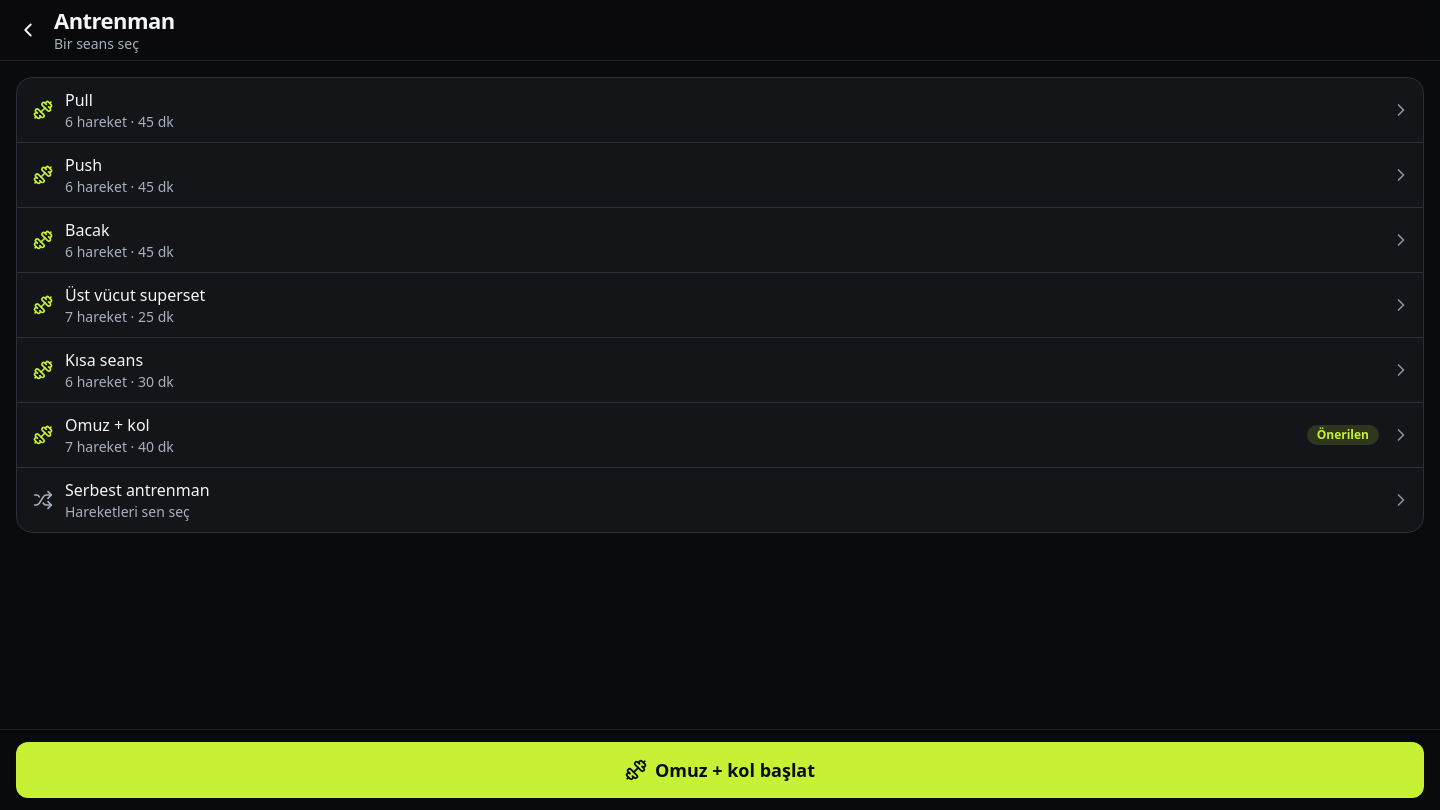
Test case: SessionScreen without a running session › shows the session picker inline and starts the chosen plan session
Expected: the heading "Antrenman" is shown, x1=54 y1=5 x2=175 y2=35
Click the button "Push 6 hareket · 45 dk". click: (84, 165)
box: x1=17 y1=143 x2=1423 y2=207
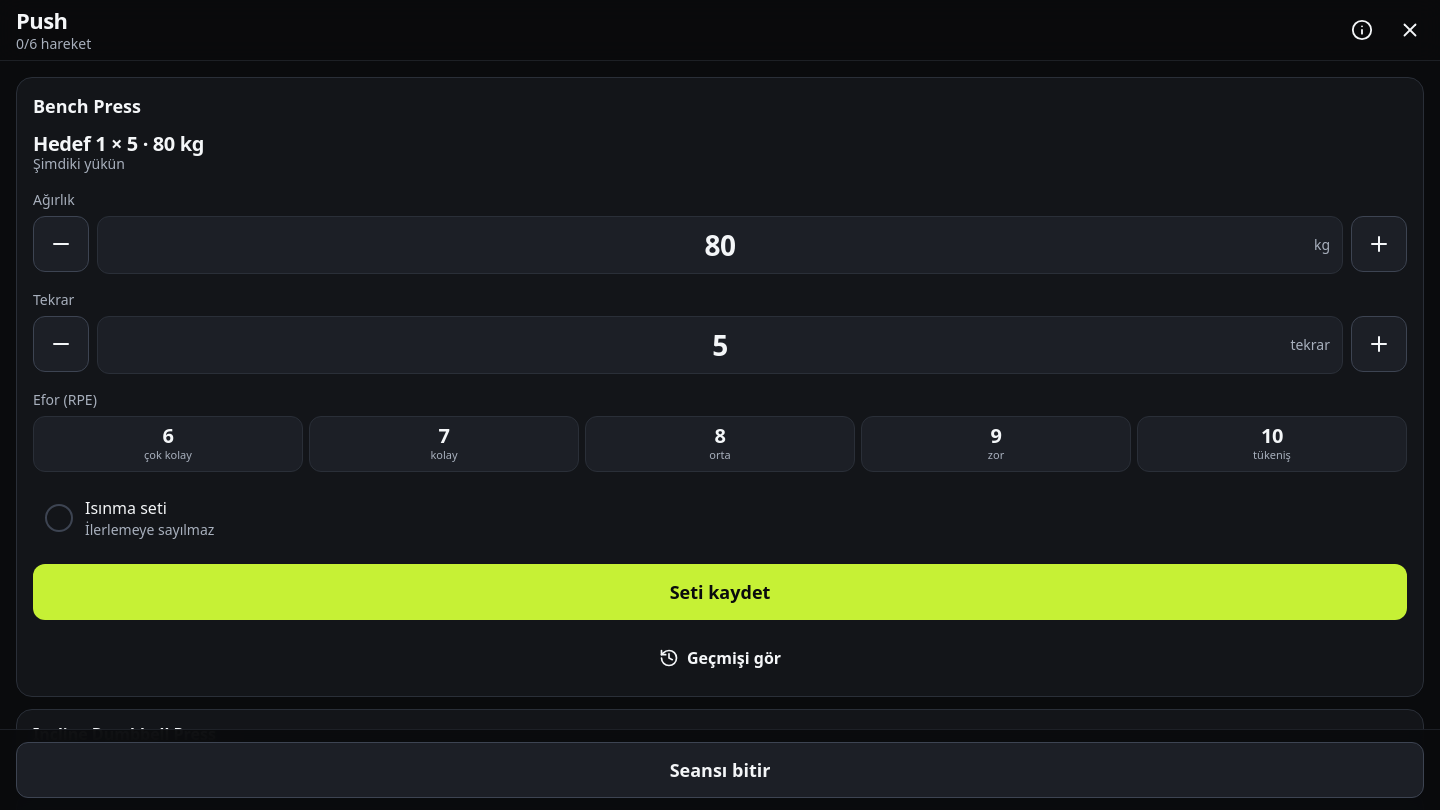
Result: the heading "Push" is shown at x1=16 y1=5 x2=68 y2=35
